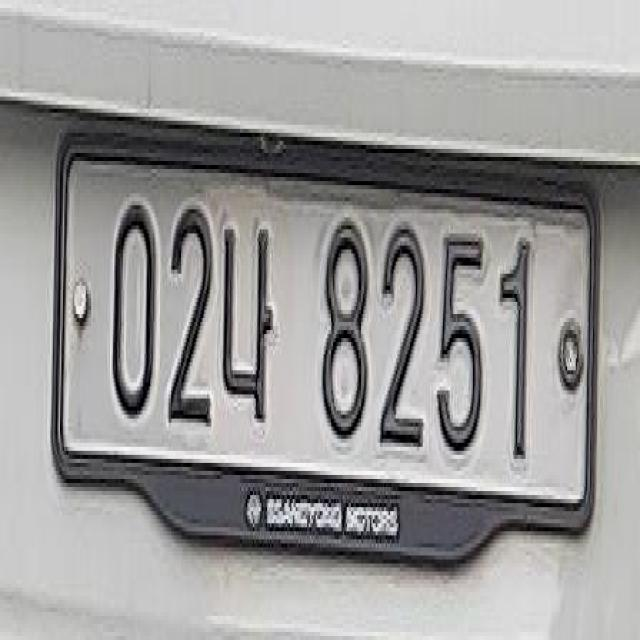illegal_plate: (50, 136, 608, 581)
